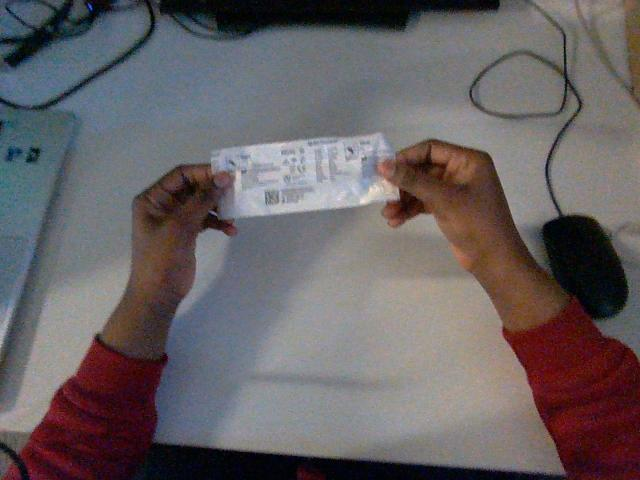syringe: (211, 133, 398, 218)
